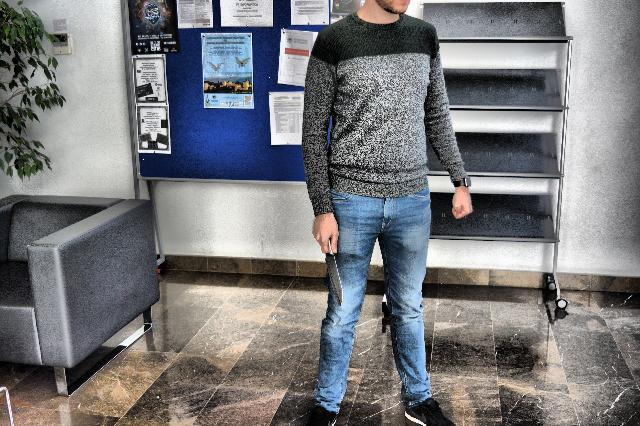knife: (320, 236, 346, 312)
